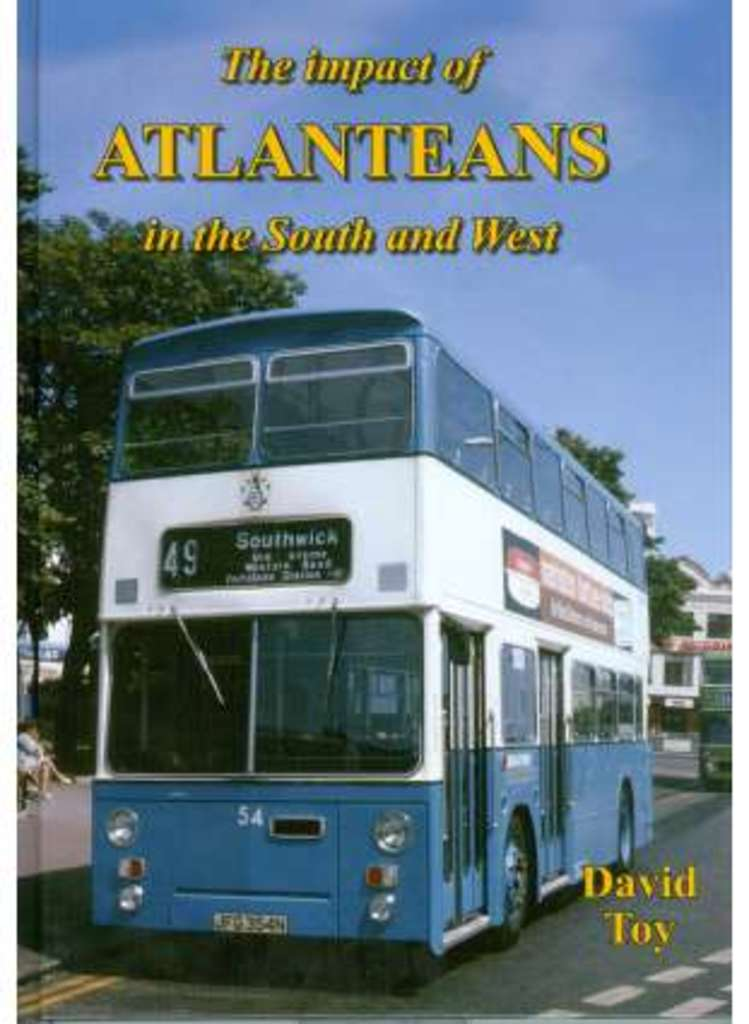Bus: (84, 303, 650, 956)
